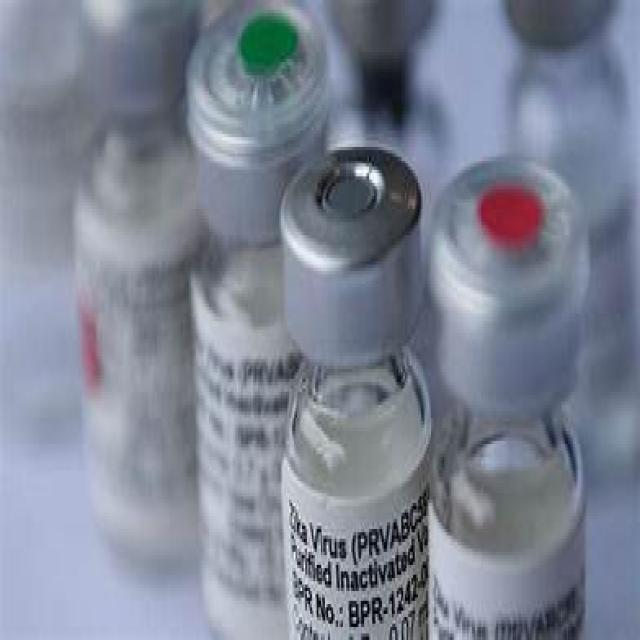vial: (436, 166, 579, 326), (178, 3, 347, 136), (284, 144, 408, 280), (90, 0, 176, 60)
